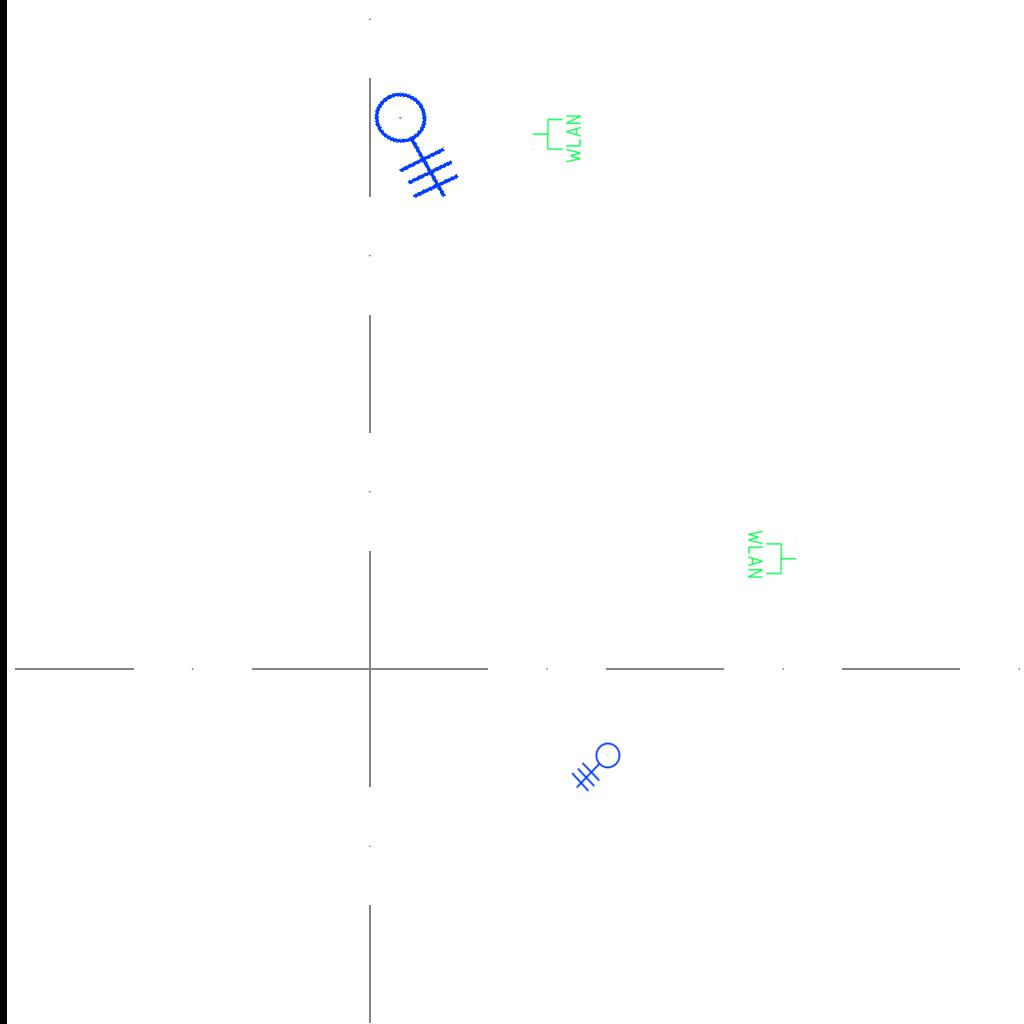Elektroanschluss_allgemein_400V_Geraeteanschlussdose_400V: (353, 69, 495, 214), (571, 742, 629, 798)
WLAN: (746, 528, 798, 580), (531, 113, 583, 165)
